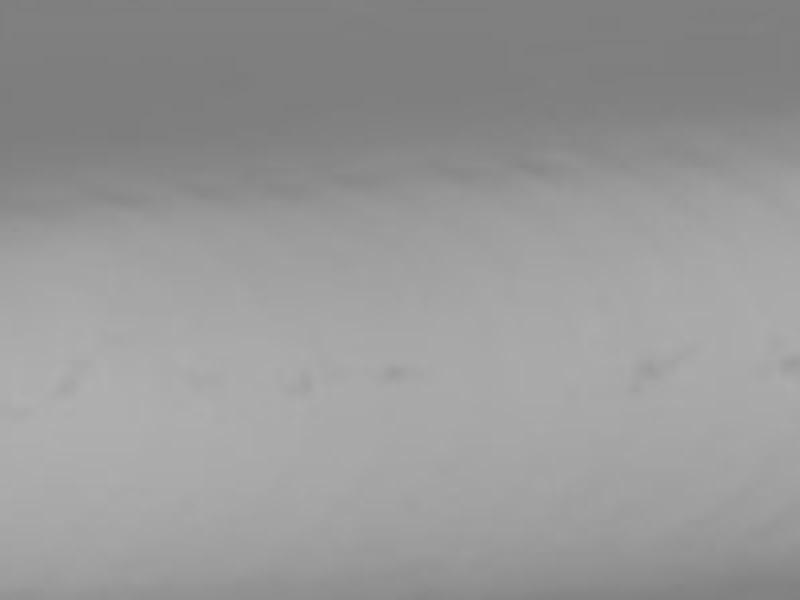defect: (184, 372, 231, 406), (633, 350, 675, 388), (283, 368, 311, 397), (382, 361, 417, 384), (774, 353, 798, 383), (53, 376, 81, 397)
